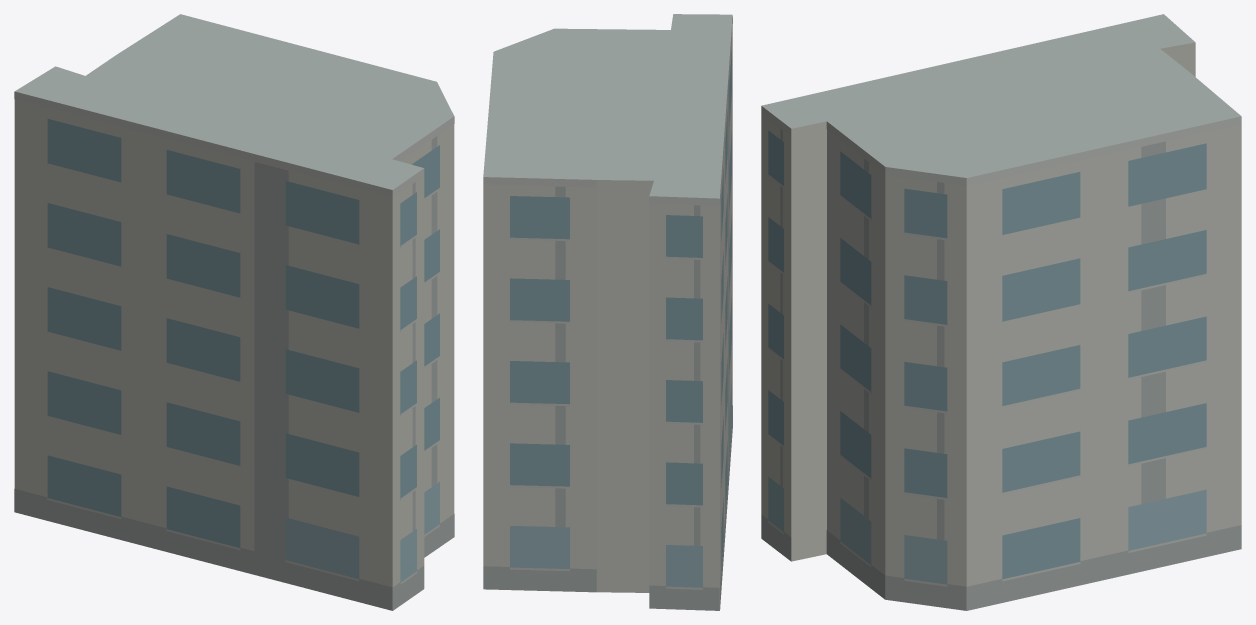
The model's file is survey-upis-32648887.glb.
The picture shows the model from 3 angles, left to right: view 1: azimuth 30°, elevation 25°; view 2: azimuth 150°, elevation 25°; view 3: azimuth 270°, elevation 25°; orthographic projection. The views are drawn at different scales.
Parts seen in each view (by area): view 1: survey-upis-32648887.tmp; view 2: survey-upis-32648887.tmp; view 3: survey-upis-32648887.tmp.
Boxes of the visible parts, x1=… form: survey-upis-32648887.tmp: x1=14, y1=14, x2=454, y2=610; survey-upis-32648887.tmp: x1=483, y1=14, x2=732, y2=610; survey-upis-32648887.tmp: x1=761, y1=14, x2=1241, y2=610.
Size of the model in its own units: 10.66 by 13.1 by 13.18.
